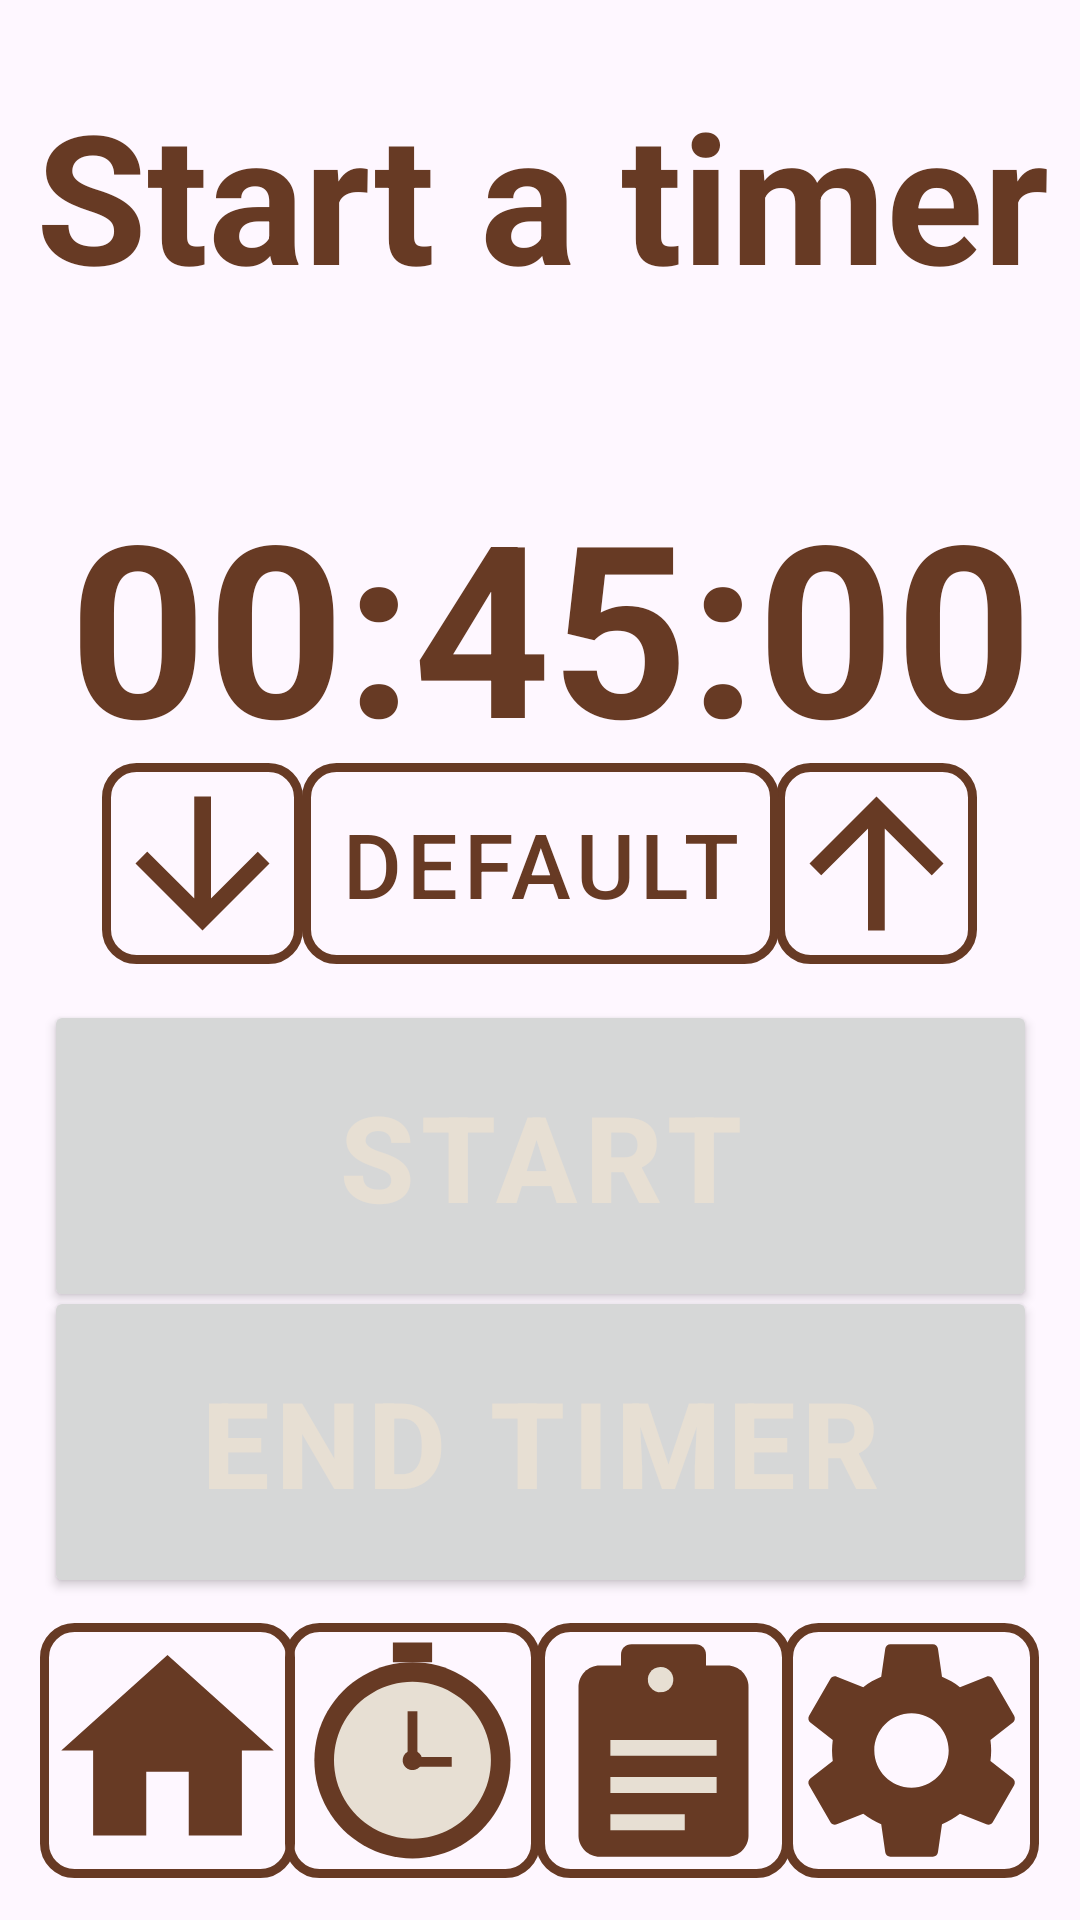

Point at icon controls on the screen. Image size 1080x1920, points as point (x, y).
homebutton: point (167, 1745)
settings: point (911, 1750)
